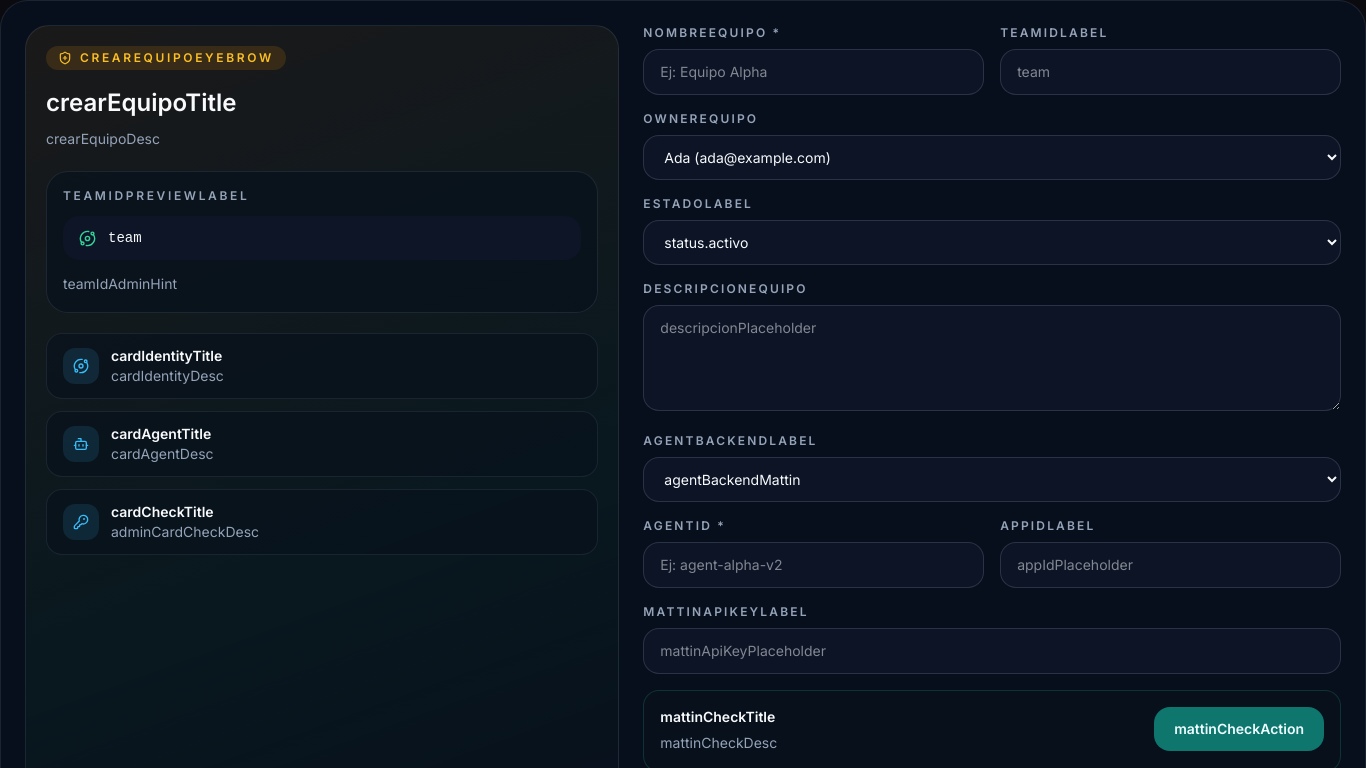
team forms UI › shows mattin fields and check action by default, then hides them for local
The image size is (1366, 768).
Expected: the field with placeholder "Ej: agent-alpha-v2" is shown, [643,542,984,588]
Expected: the field with placeholder "appIdPlaceholder" is shown, [1000,542,1341,588]
Select "agentBackendLocal" in the dropdown labelled "agentBackendLabel" at (992, 480), box [643,457,1341,502]
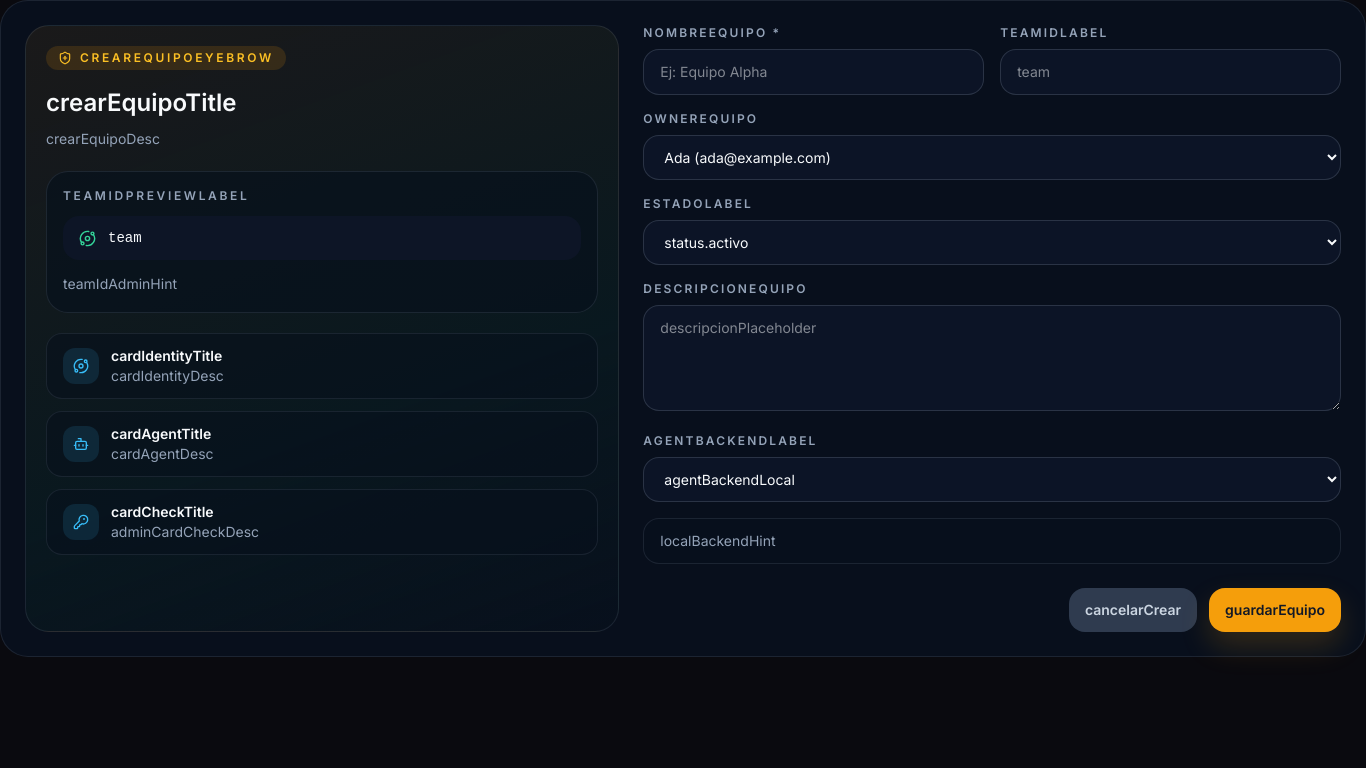
Expected: the field with placeholder "appIdPlaceholder" is gone
Expected: the password field with placeholder "mattinApiKeyPlaceholder" is gone
Expected: the button "mattinCheckAction" is gone
Select "agentBackendMattin" in the dropdown labelled "agentBackendLabel" at (992, 480), box [643,457,1341,502]
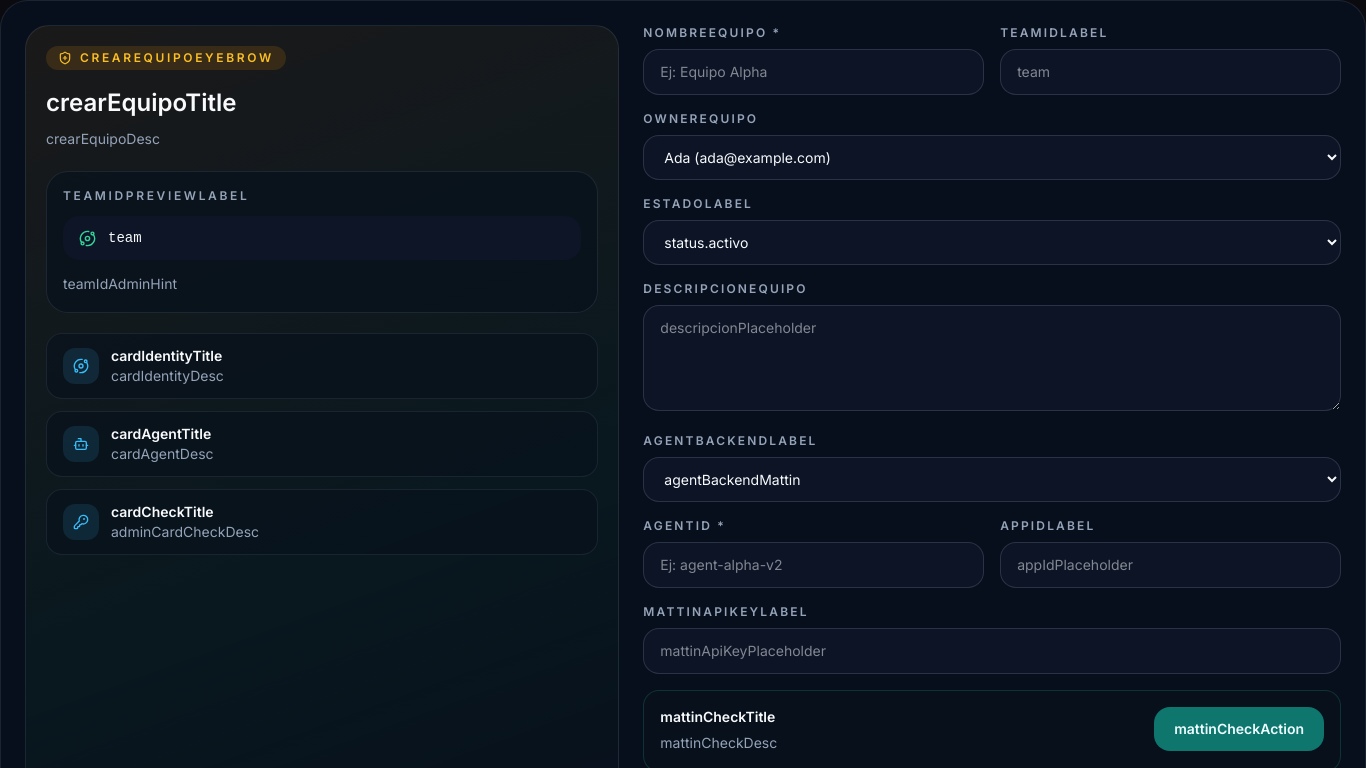
Expected: the field with placeholder "Ej: agent-alpha-v2" is shown, [643,542,984,588]
Expected: the field with placeholder "appIdPlaceholder" is shown, [1000,542,1341,588]
Expected: the password field with placeholder "mattinApiKeyPlaceholder" is shown, [643,628,1341,674]
